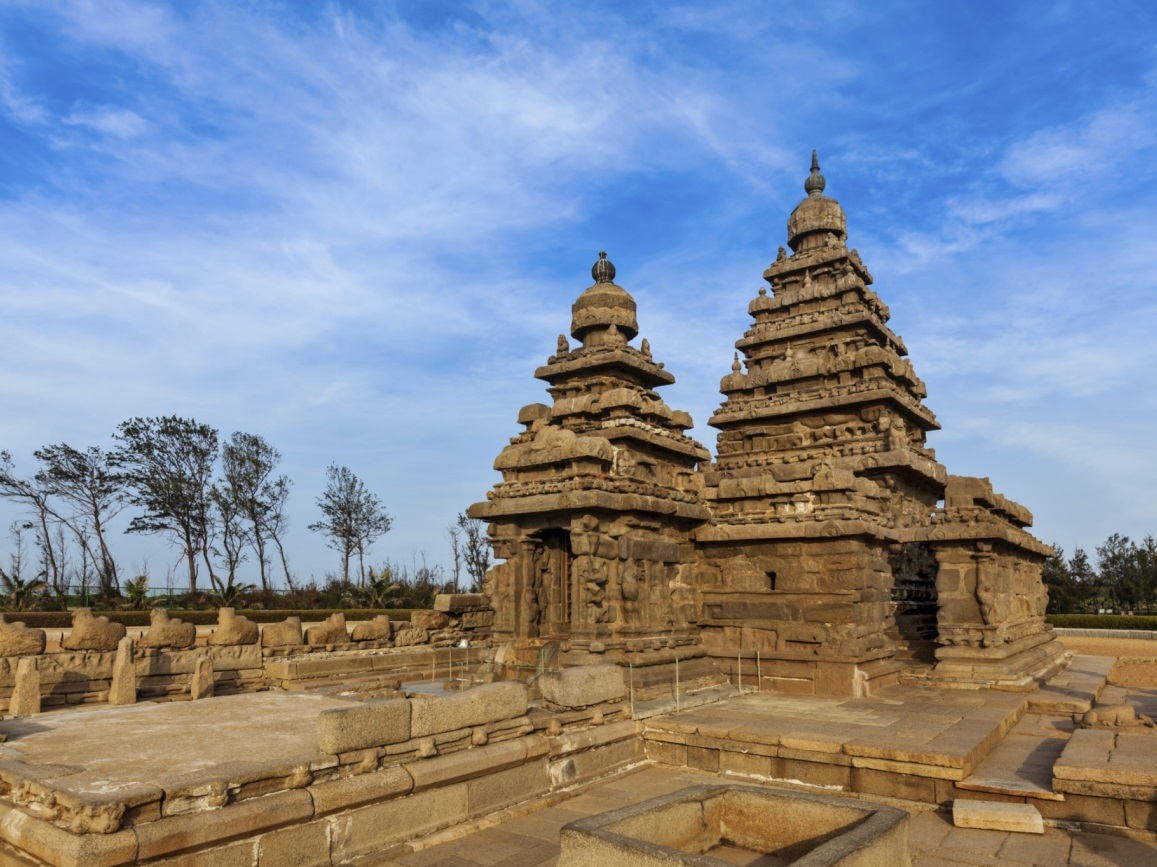Temple: (707, 159, 1025, 666), (471, 249, 722, 666)
